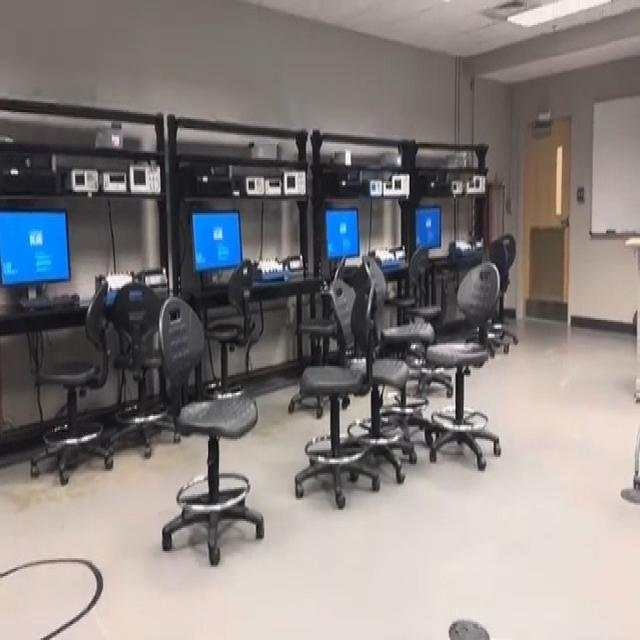drone: (304, 267, 340, 304)
